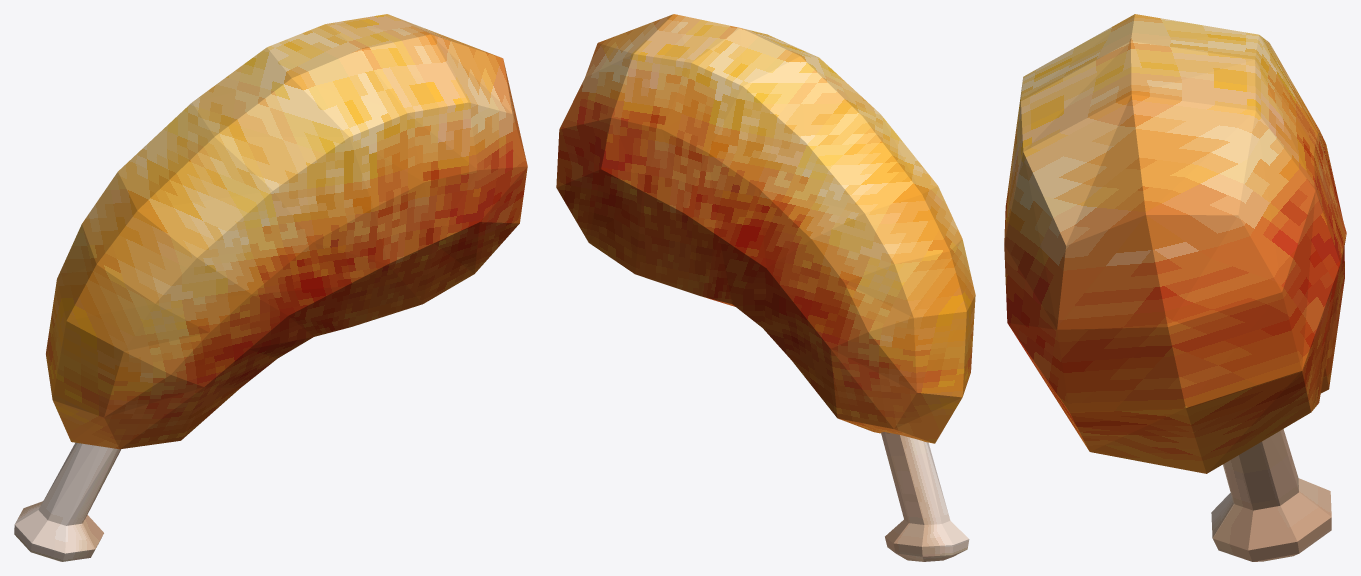
Rendered from BBQ Chicken Leg.obj.
The picture shows the model from 3 angles, left to right: view 1: azimuth 30°, elevation 25°; view 2: azimuth 150°, elevation 25°; view 3: azimuth 270°, elevation 25°; orthographic projection. The views are drawn at different scales.
Parts seen in each view (by area): view 1: Inst3D25_RefRep.212; view 2: Inst3D25_RefRep.212; view 3: Inst3D25_RefRep.212.
Boxes of the visible parts, x1=… form: Inst3D25_RefRep.212: x1=14, y1=14, x2=527, y2=561; Inst3D25_RefRep.212: x1=556, y1=14, x2=975, y2=561; Inst3D25_RefRep.212: x1=1004, y1=14, x2=1346, y2=561.
Size of the model in its own units: 2.73 by 2.75 by 1.25.
